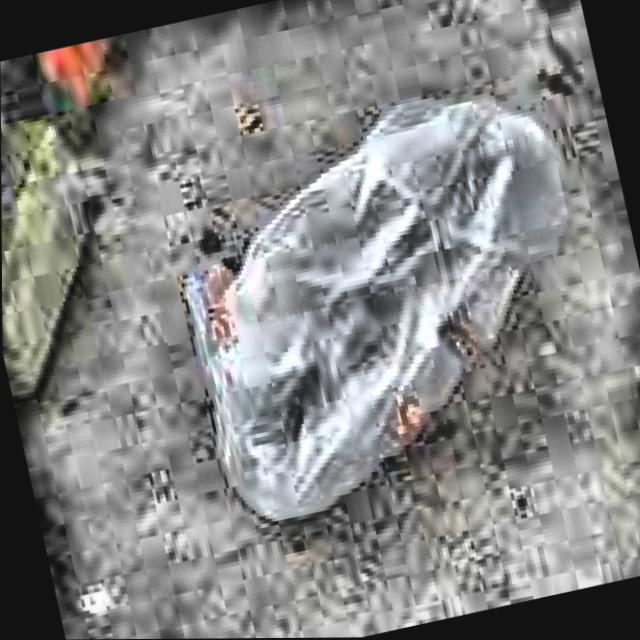Plastic: (149, 60, 640, 544)
